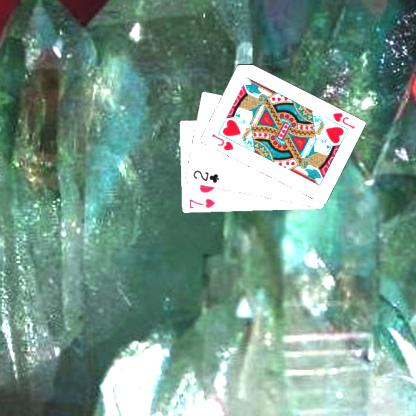2C: (190, 168, 220, 184)
7H: (186, 196, 216, 210)
JH: (209, 131, 235, 152), (330, 110, 356, 130)
